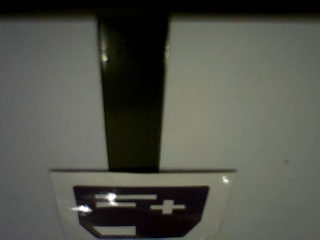Supply_Station: (74, 185, 210, 240)
